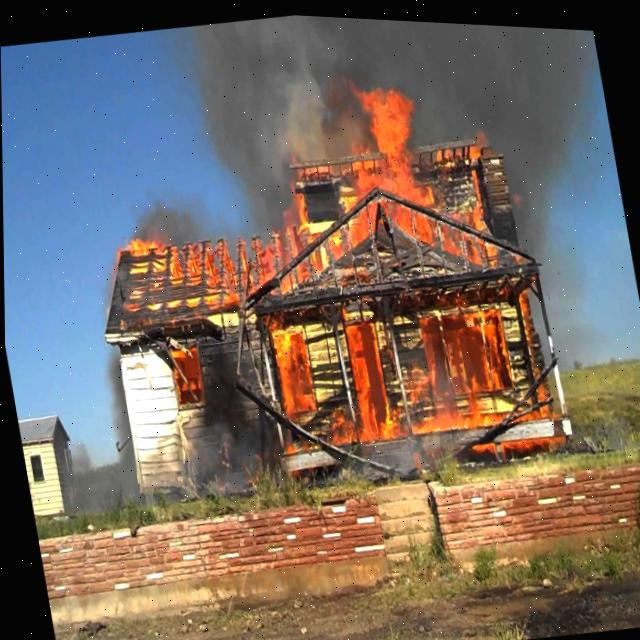fire: (75, 60, 580, 479)
smoke: (174, 12, 620, 229)
